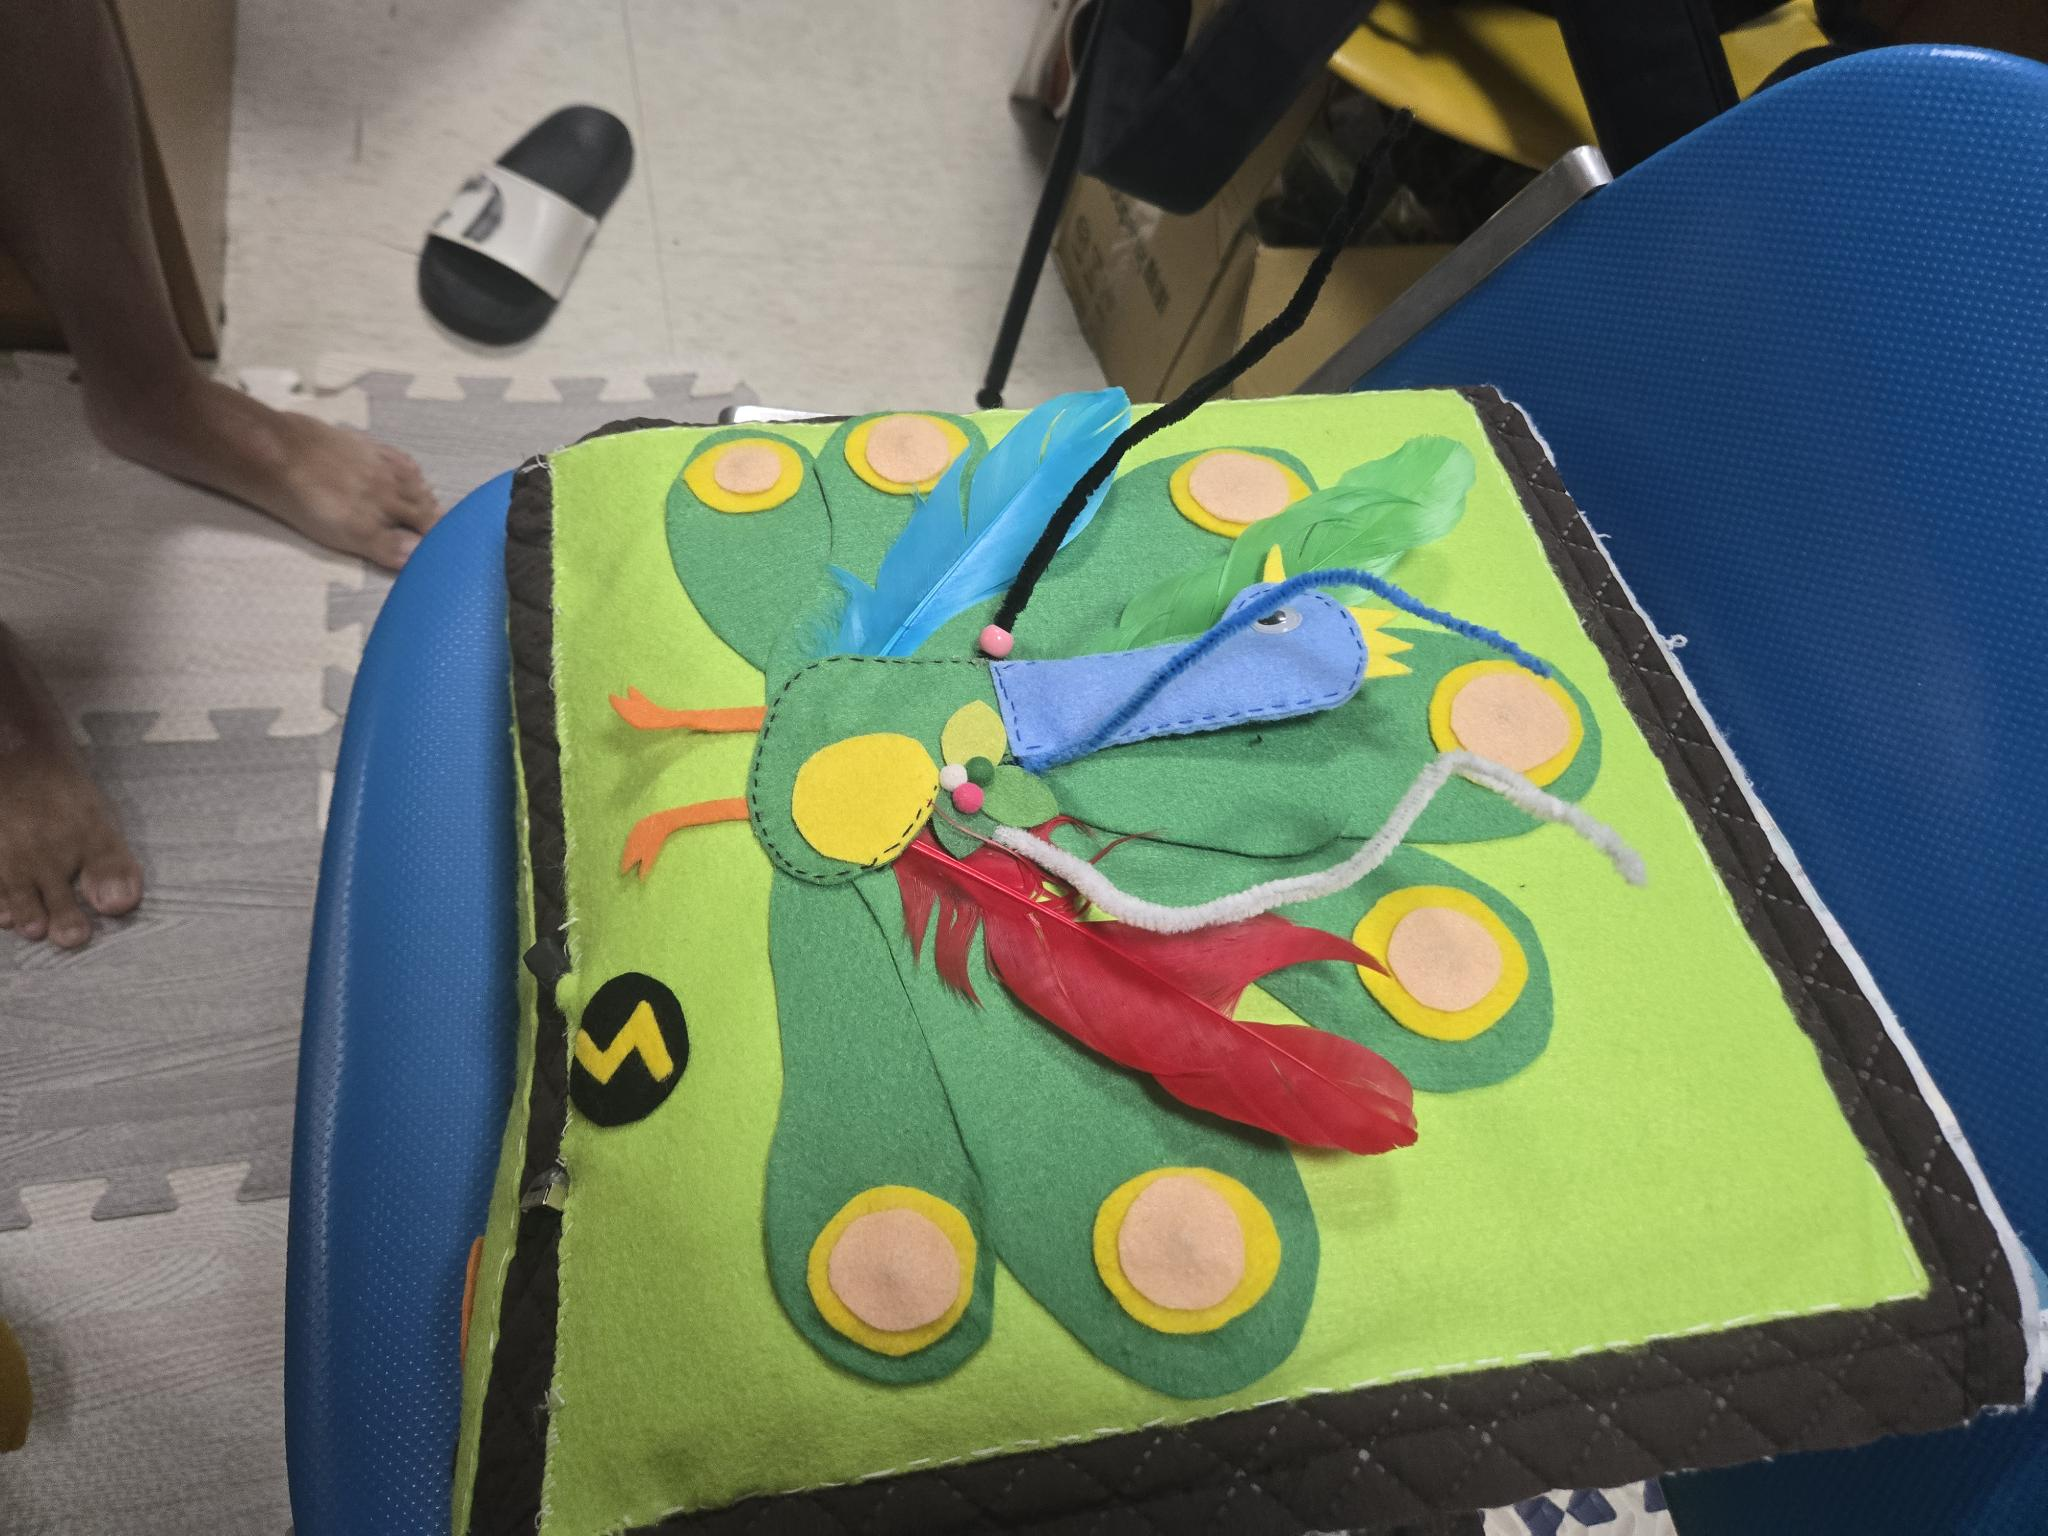bead: (972, 615, 1029, 674)
